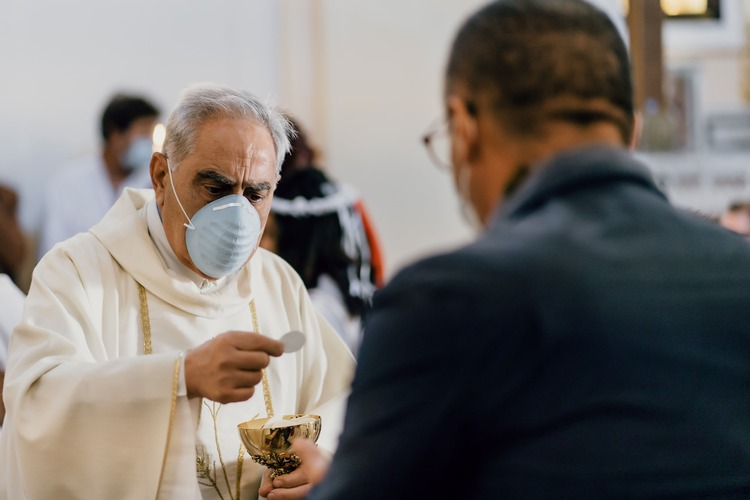with_mask: (176, 148, 271, 273)
